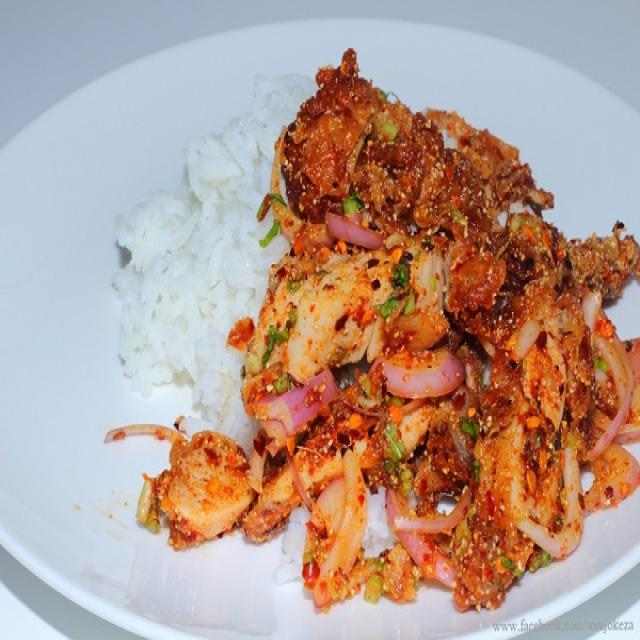carb: (103, 98, 287, 454)
meat: (289, 80, 592, 583)
spicy chicken rice salad: (54, 14, 611, 618)
vegetable: (379, 336, 466, 414)
